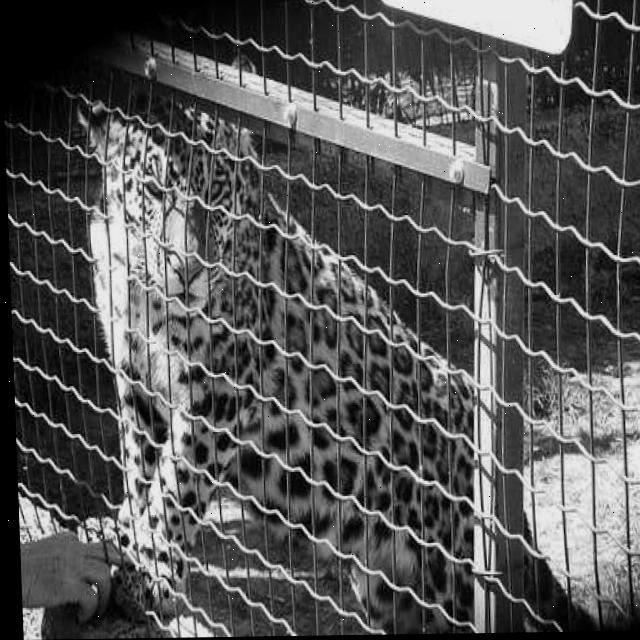Leopard: (65, 80, 599, 637)
